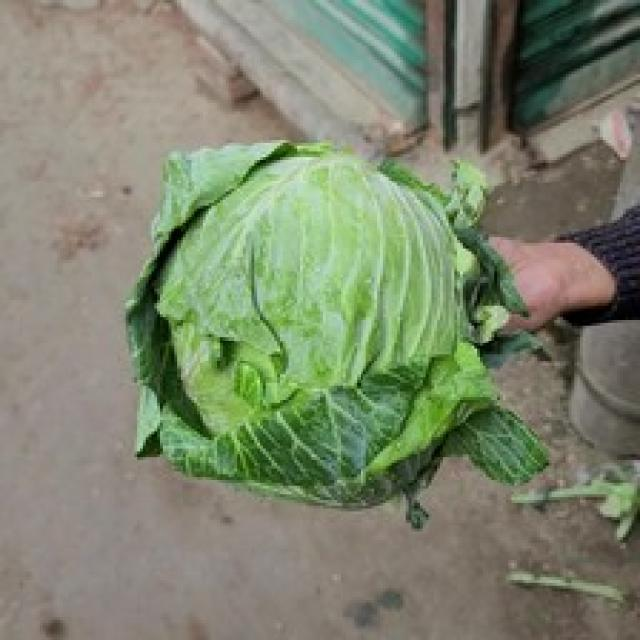Cabbage: (123, 137, 548, 526)
